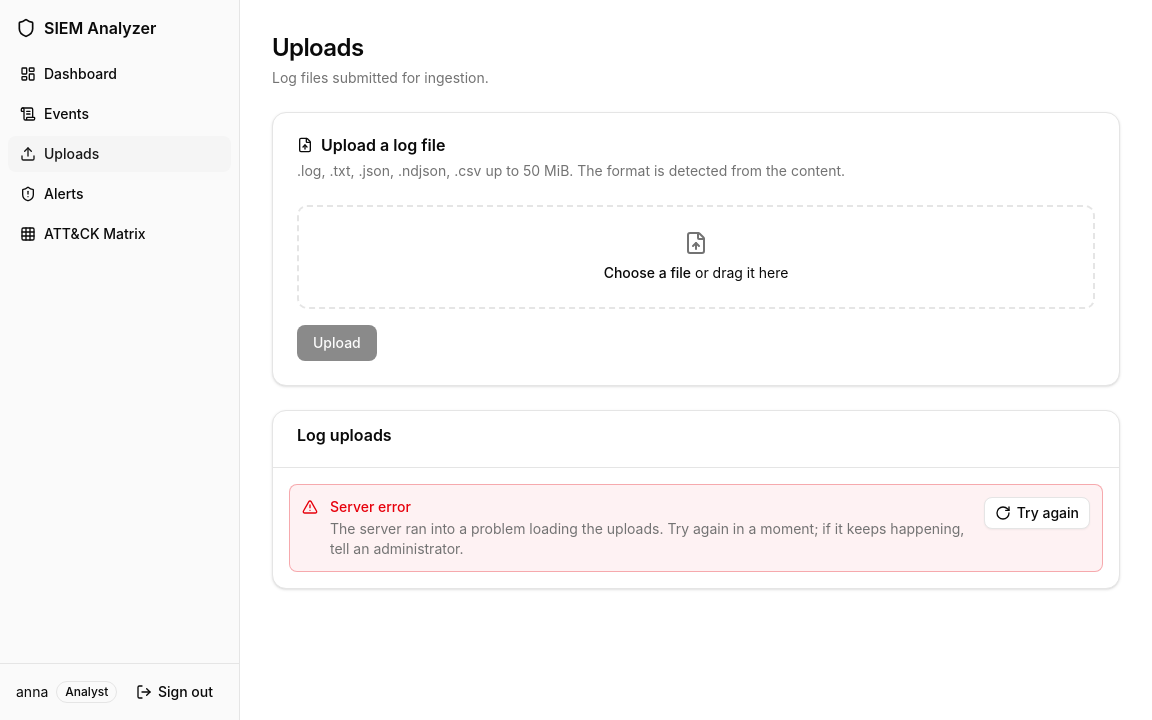
Test: error states › explains a failed list in plain words and loads it again on request
This screenshot has width=1152, height=720.
Expected: the message shows "Server error", [330,498,411,515]
Expected: the message shows "The server ran into a problem loading the uploads.", [330,520,964,557]
What coordinates should you click on to do the following:
click the button "Try again"
I would click on:
 (1037, 513)
Its box is [984,497,1090,529].
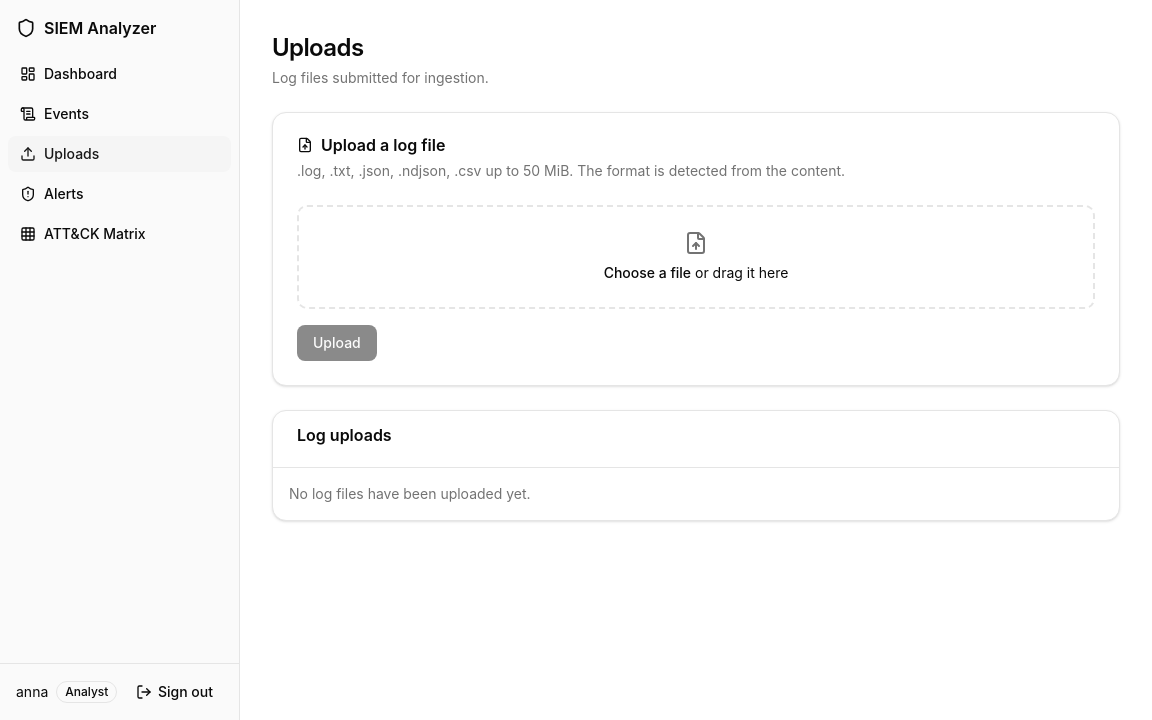
Expected: the text "No log files have been uploaded yet." is shown, [289,485,531,502]
